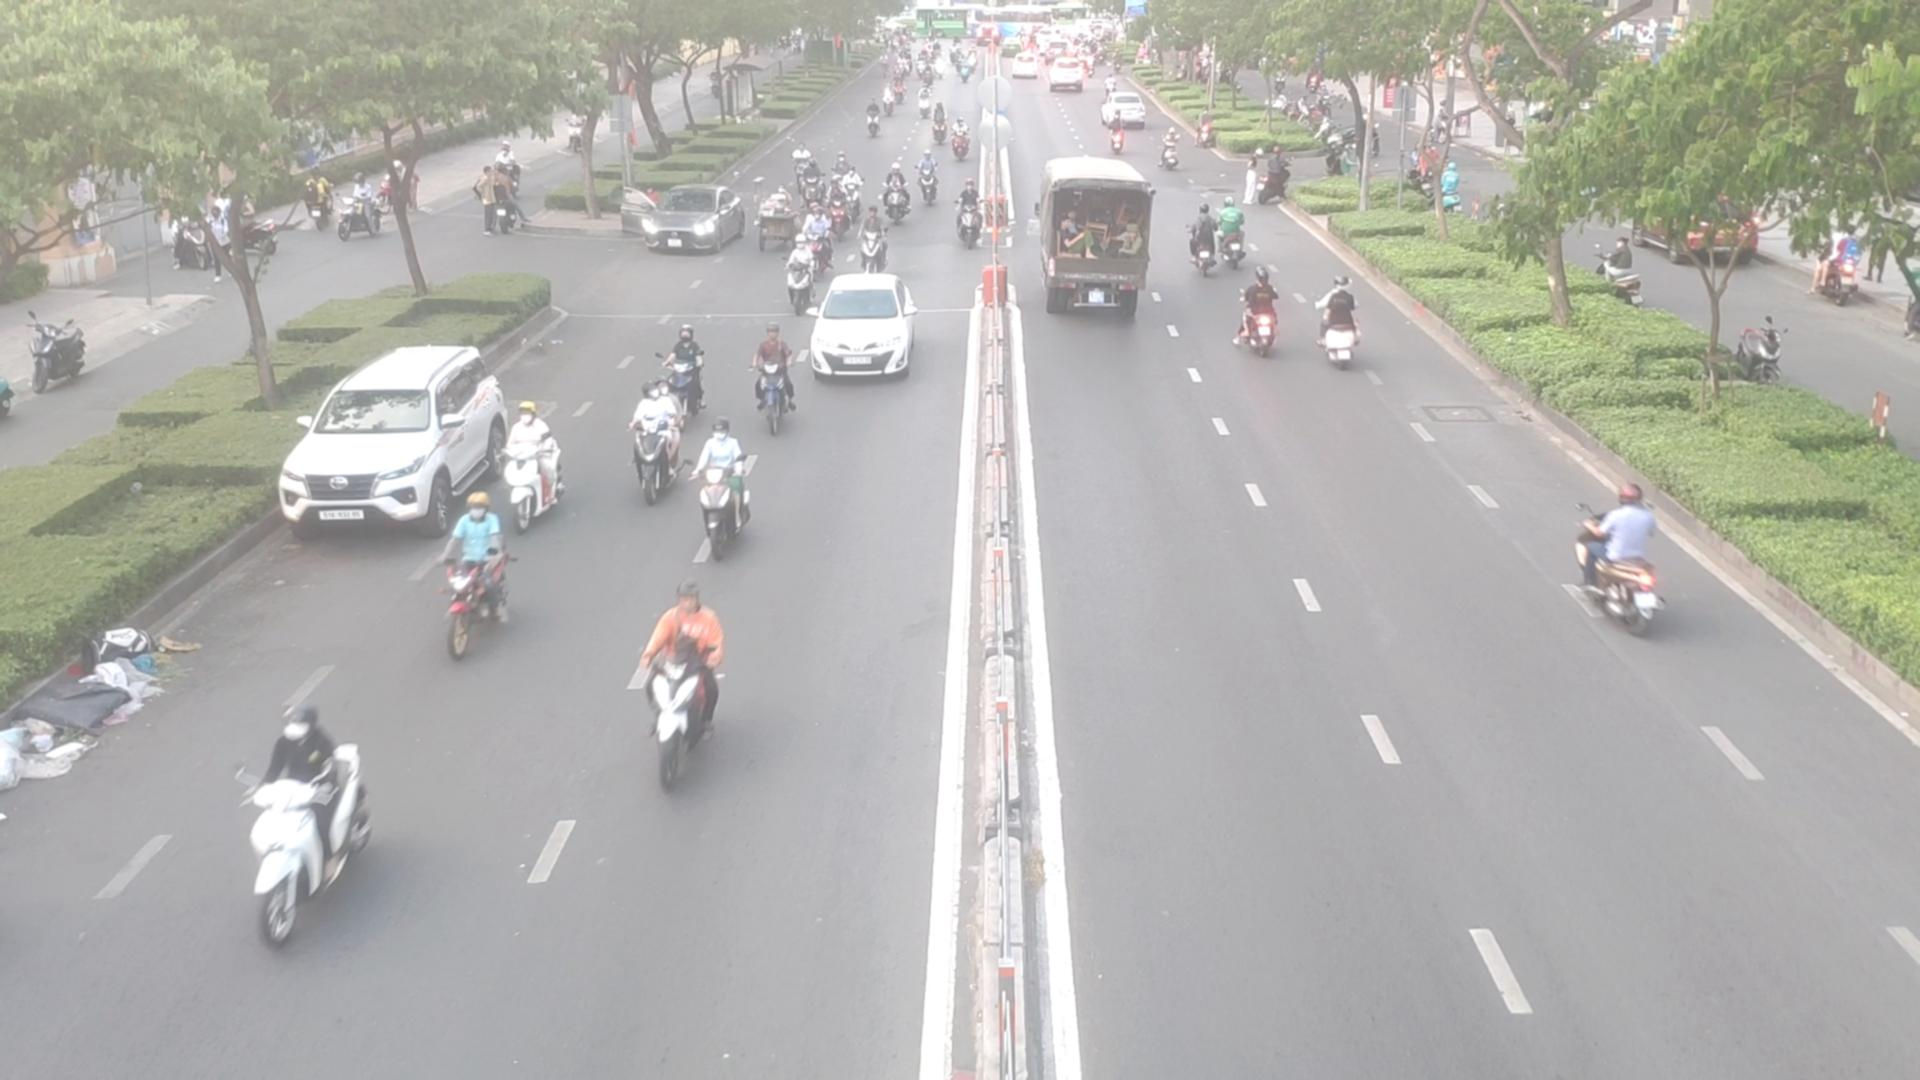car: (287, 343, 524, 533), (1031, 158, 1150, 319), (808, 278, 922, 382), (620, 190, 752, 257)
motorbike: (220, 703, 375, 942), (629, 587, 731, 785), (1575, 488, 1677, 634), (434, 498, 516, 650), (505, 407, 576, 527), (695, 429, 765, 547), (629, 394, 684, 504), (742, 332, 804, 430), (1315, 281, 1369, 367), (1233, 277, 1287, 357), (655, 330, 709, 409), (785, 248, 827, 313), (952, 185, 993, 251), (1212, 200, 1253, 266), (1189, 196, 1216, 276), (880, 174, 909, 225), (918, 156, 945, 203), (1098, 121, 1129, 156), (862, 107, 887, 138)
